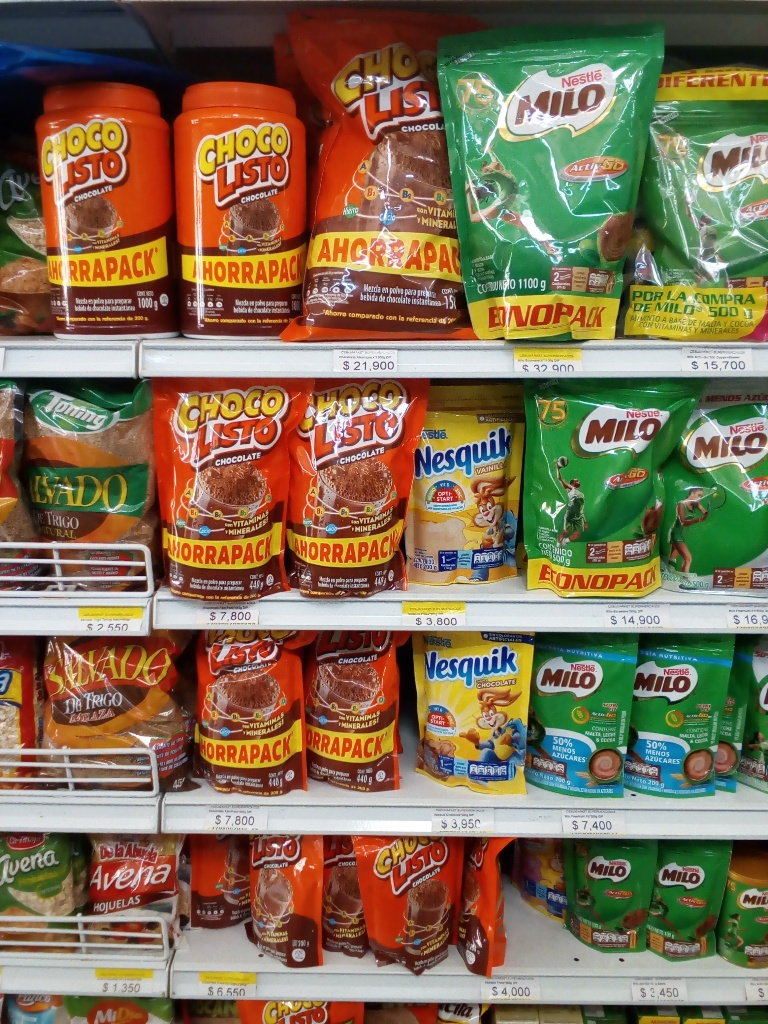COL0170103DYP1,500: (292, 9, 460, 335)
COL0170103DYP36000: (310, 831, 369, 951)
COL0170103DYP44000: (150, 378, 297, 602)
COL0170103TRR00100: (32, 81, 177, 342)
COL0170203DYP10000: (649, 840, 730, 964)
COL0170203DYP50000: (620, 53, 768, 343)
COL0170203LAT20000: (726, 854, 768, 971)
COL0170205DYP20000: (536, 631, 637, 796)
COL0170205DYP50000: (665, 379, 767, 601)
COL0170303DYP20000: (411, 634, 535, 801)
COL0170306DYP20000: (416, 381, 526, 589)
